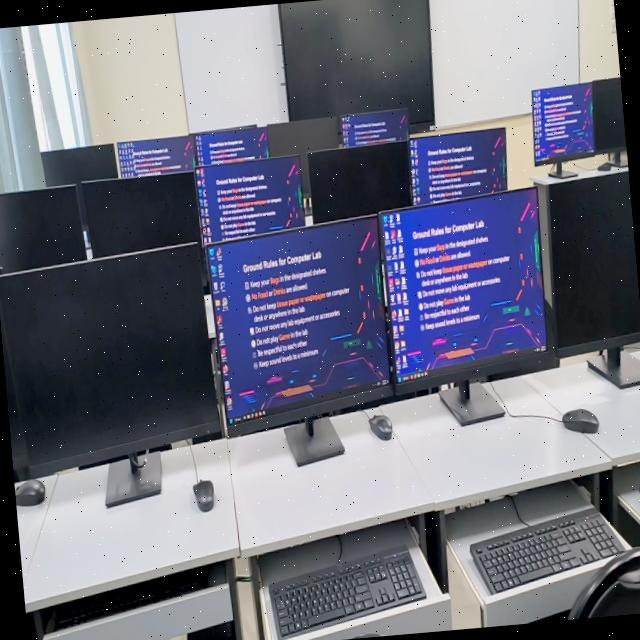Chair: (566, 545, 640, 620)
Digital board: (277, 0, 432, 129)
Keyboard: (268, 544, 423, 637), (469, 507, 621, 593)
Monitor: (0, 243, 218, 473), (206, 217, 388, 422), (379, 188, 544, 383), (532, 169, 640, 356), (77, 171, 200, 256), (194, 155, 304, 243), (306, 139, 411, 222), (408, 126, 505, 203), (0, 185, 84, 271), (265, 115, 340, 195), (530, 83, 593, 164), (0, 315, 25, 469), (39, 142, 117, 185), (116, 134, 193, 176), (587, 76, 626, 156), (194, 125, 267, 165), (339, 107, 407, 146), (13, 478, 44, 504)
Mouse: (561, 407, 598, 432), (13, 478, 44, 504), (191, 479, 212, 510), (368, 413, 391, 438)
